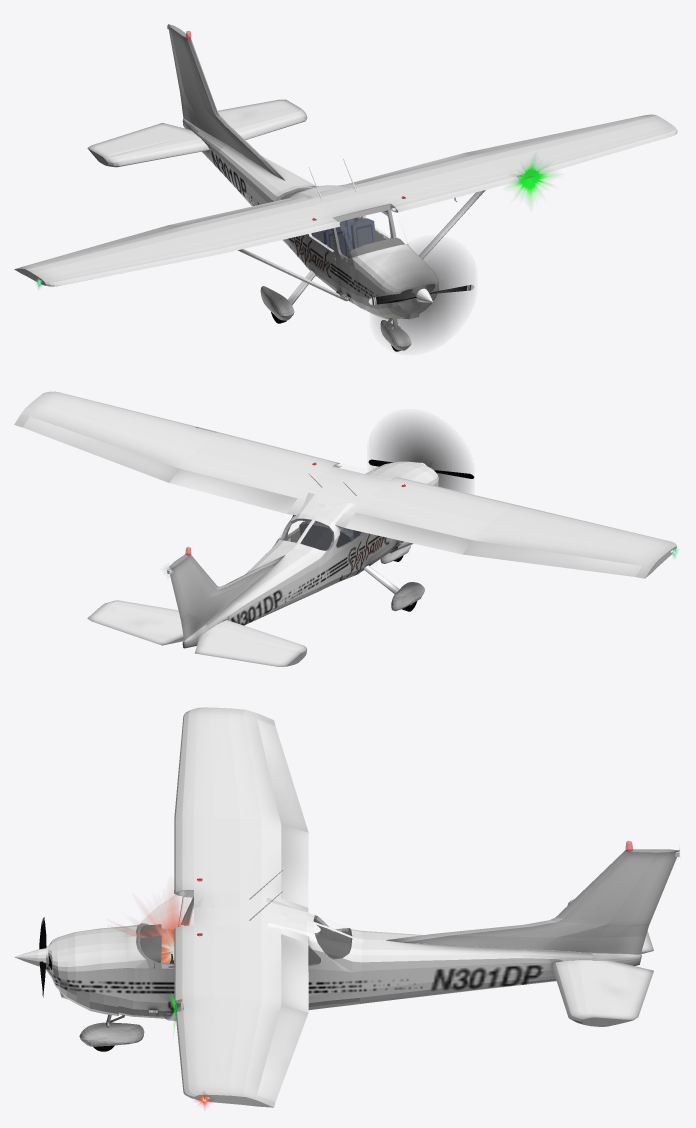
The picture shows the model from 3 angles, top to bottom: view 1: azimuth 30°, elevation 25°; view 2: azimuth 150°, elevation 25°; view 3: azimuth 270°, elevation 25°; orthographic projection. The views are drawn at different scales.
Parts seen in each view (by area): view 1: c172p.ac:Material.016 (×3), c172p.ac:WhiteLightOff.002 (×3), c172p.ac:Material.010, c172p.ac:DefaultWhite.002; view 2: c172p.ac:Material.016 (×4), c172p.ac:WhiteLightOff.002 (×2), c172p.ac:Material.010; view 3: c172p.ac:Material.016 (×4), c172p.ac:Material.010, c172p.ac:Plane.014Xmat, c172p.ac:Material.003.
Boxes of the visible parts, <box> form: c172p.ac:Material.016 (×3): <box>14,24,677,350</box>; c172p.ac:WhiteLightOff.002 (×3): <box>311,197,474,349</box>; c172p.ac:Material.010: <box>279,185,407,257</box>; c172p.ac:DefaultWhite.002: <box>510,158,554,202</box>; c172p.ac:Material.016 (×4): <box>14,391,676,666</box>; c172p.ac:WhiteLightOff.002 (×2): <box>299,415,470,550</box>; c172p.ac:Material.010: <box>279,463,394,550</box>; c172p.ac:Material.016 (×4): <box>45,707,679,1107</box>; c172p.ac:Material.010: <box>138,891,351,965</box>; c172p.ac:Plane.014Xmat: <box>124,896,191,963</box>; c172p.ac:Material.003: <box>140,924,161,962</box>.
Size of what is drawn, in the model's own units: 11.37 by 2.87 by 8.2.
Materials: 117 (42 with a texture image).
